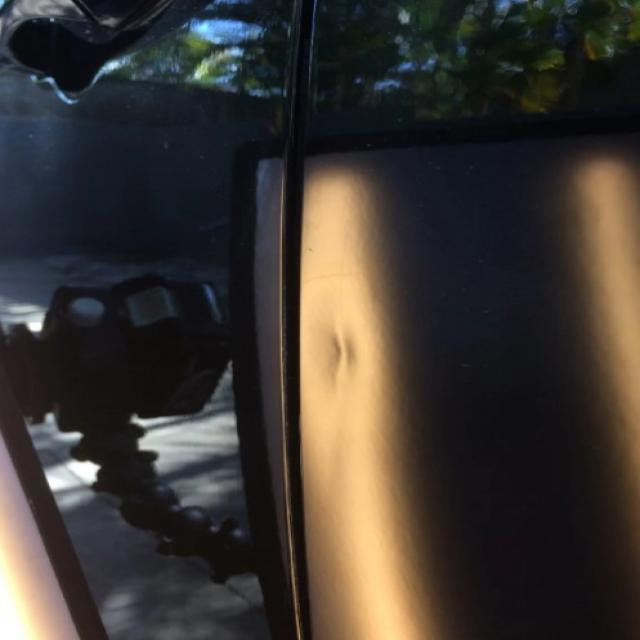dents: (274, 310, 390, 421)
